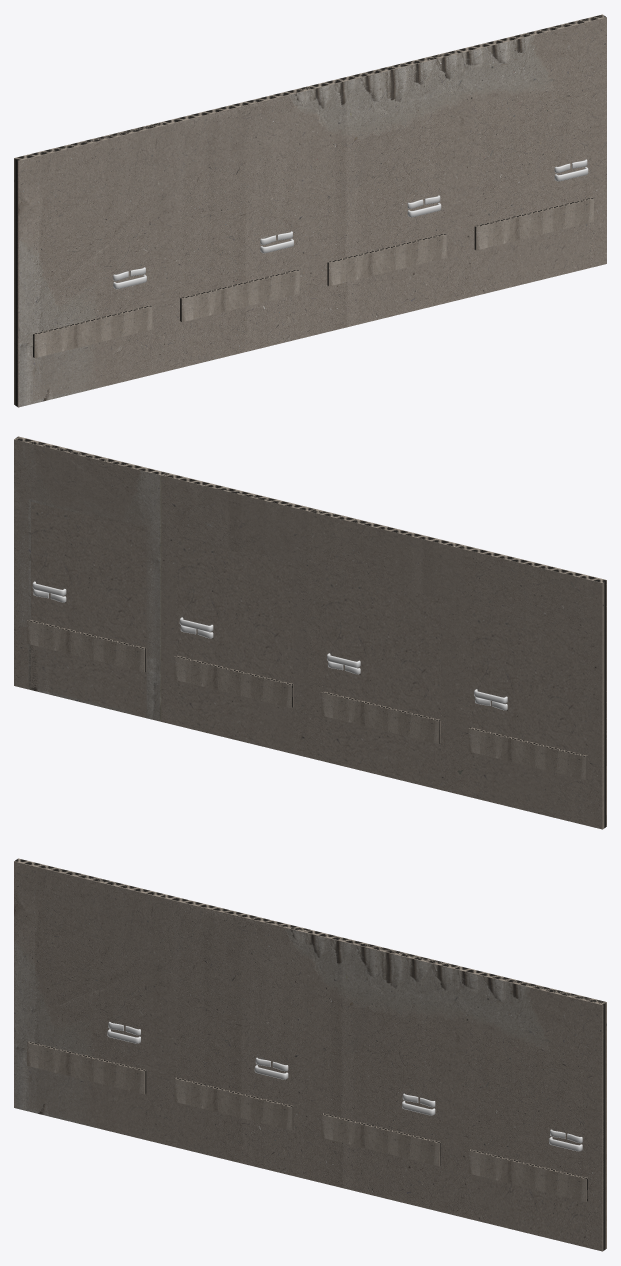
The model's file is Wall.fbx.
The picture shows the model from 3 angles, top to bottom: view 1: azimuth 30°, elevation 25°; view 2: azimuth 150°, elevation 25°; view 3: azimuth 330°, elevation 25°; orthographic projection.
Visible parts, largest first — view 1: WallTopCube.003, WallTopCube.002, WallTopCube.001, WallTopCube, DoorTopCube, DoorTopCube.001, DoorTopCube.002, DoorTopCube.003, WallBottom0, WallBottom1, WallBottom2, WallBottom3 (+9 smaller); view 2: DoorCube.001, DoorCube.003, DoorCube.002, DoorCube, DoorTopCube, DoorTopCube.003, DoorTopCube.001, DoorTopCube.002, WallTopCube.003, WallTopCube.002, WallTopCube.001, WallBottom0 (+12 smaller); view 3: WallTopCube.003, WallTopCube.002, WallTopCube, WallTopCube.001, DoorTopCube, DoorTopCube.001, DoorTopCube.003, DoorTopCube.002, WallBottom1, WallBottom0, WallBottom2, DoorCube (+10 smaller).
Boxes of the visible parts, x1,y1,x2,y2 form: WallTopCube.003: (457, 15, 606, 237); WallTopCube.002: (309, 50, 459, 273); WallTopCube.001: (162, 87, 312, 309); WallTopCube: (14, 122, 165, 345); DoorTopCube: (14, 122, 165, 345); DoorTopCube.001: (161, 86, 312, 309); DoorTopCube.002: (309, 50, 459, 273); DoorTopCube.003: (456, 14, 606, 237); WallBottom0: (14, 310, 165, 407); WallBottom1: (165, 274, 312, 371); WallBottom2: (312, 238, 459, 335); WallBottom3: (459, 202, 606, 299); DoorCube.001: (325, 573, 440, 787); DoorCube.003: (31, 502, 146, 715); DoorCube.002: (178, 538, 293, 751); DoorCube: (472, 609, 587, 819); DoorTopCube: (455, 544, 606, 767); DoorTopCube.003: (14, 436, 164, 659); DoorTopCube.001: (308, 508, 459, 731); DoorTopCube.002: (161, 472, 312, 695); WallTopCube.003: (14, 437, 163, 659); WallTopCube.002: (161, 473, 311, 695); WallTopCube.001: (309, 508, 455, 731); WallBottom0: (466, 735, 602, 828); WallTopCube.003: (455, 966, 606, 1188); WallTopCube.002: (308, 930, 455, 1153); WallTopCube: (14, 859, 163, 1081); WallTopCube.001: (161, 894, 311, 1117); DoorTopCube: (14, 858, 164, 1081); DoorTopCube.001: (161, 894, 312, 1117); DoorTopCube.003: (455, 966, 606, 1189); DoorTopCube.002: (308, 930, 459, 1153); WallBottom1: (161, 1082, 308, 1179); WallBottom0: (14, 1046, 161, 1143); WallBottom2: (308, 1118, 455, 1215); DoorCube: (28, 959, 144, 1136).
Size of the model in its own units: 20 by 8 by 0.5796.
